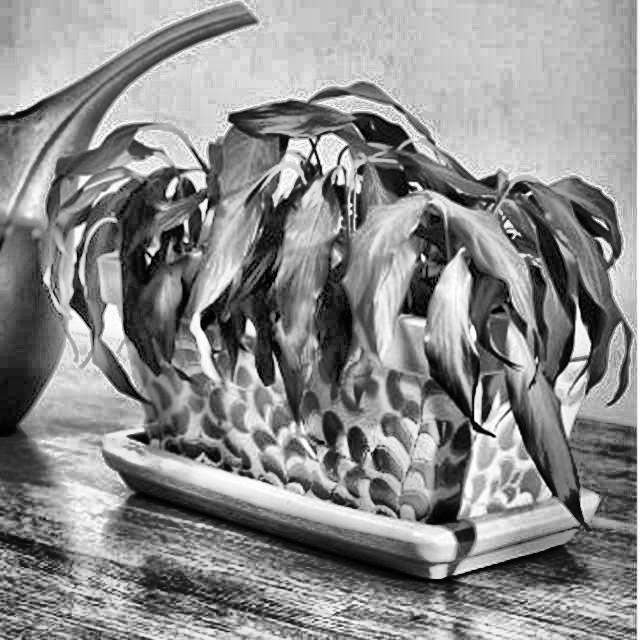plants: (51, 109, 607, 568)
